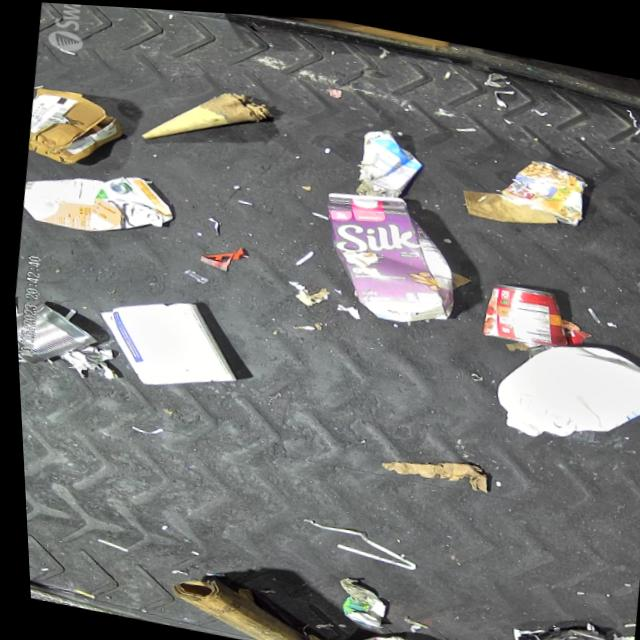can: (475, 271, 573, 346), (494, 146, 589, 221), (12, 296, 100, 376), (335, 620, 423, 640)
milk_jug: (483, 321, 640, 453)
non_white_jug: (309, 179, 469, 327), (17, 155, 180, 248)
